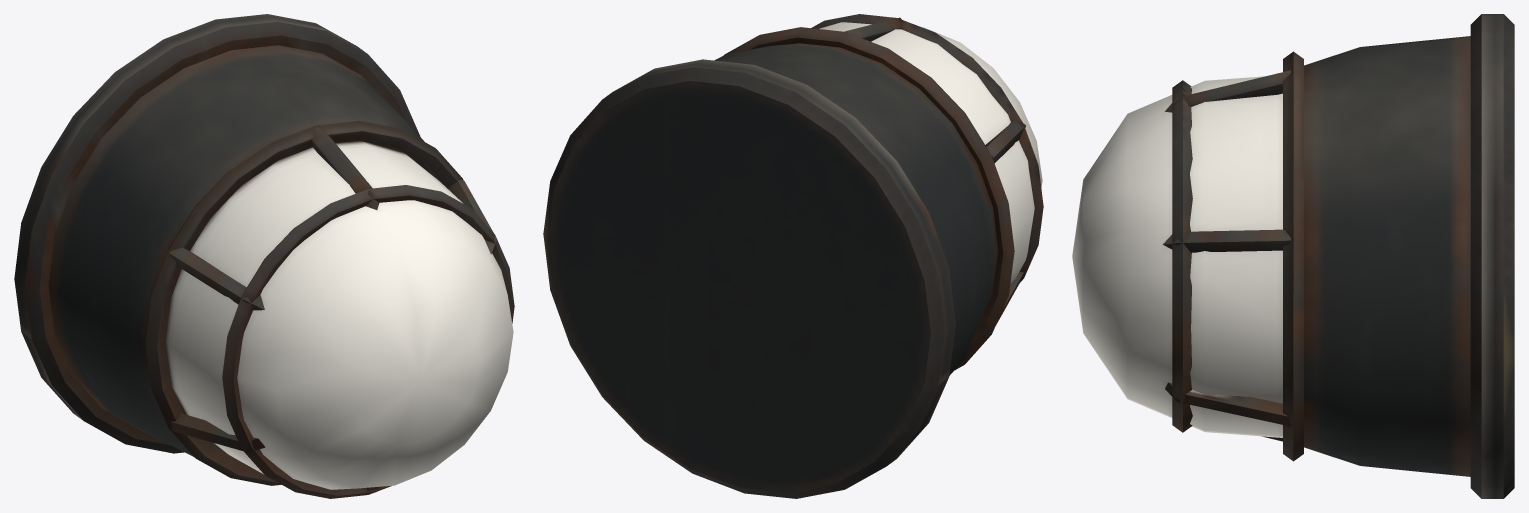
File: LightCageWall.glb
3 views of the same model, side by side, from view 1: azimuth 30°, elevation 25°; view 2: azimuth 150°, elevation 25°; view 3: azimuth 270°, elevation 25° (orthographic). The views are drawn at different scales.
Parts seen in each view (by area): view 1: Light_Cage_Wall, Light_Cage_Wall_Glow; view 2: Light_Cage_Wall, Light_Cage_Wall_Glow; view 3: Light_Cage_Wall, Light_Cage_Wall_Glow.
Part boxes in pixels (x1,y1,x2,y2): Light_Cage_Wall: (14,14,514,498); Light_Cage_Wall_Glow: (165,141,513,489); Light_Cage_Wall: (543,14,1043,498); Light_Cage_Wall_Glow: (819,22,1042,283); Light_Cage_Wall: (1163,14,1514,498); Light_Cage_Wall_Glow: (1072,76,1282,437).
Bounding box in the file's own units: 2.4 × 2.4 × 2.18.
Materials: 1 (1 with a texture image).
